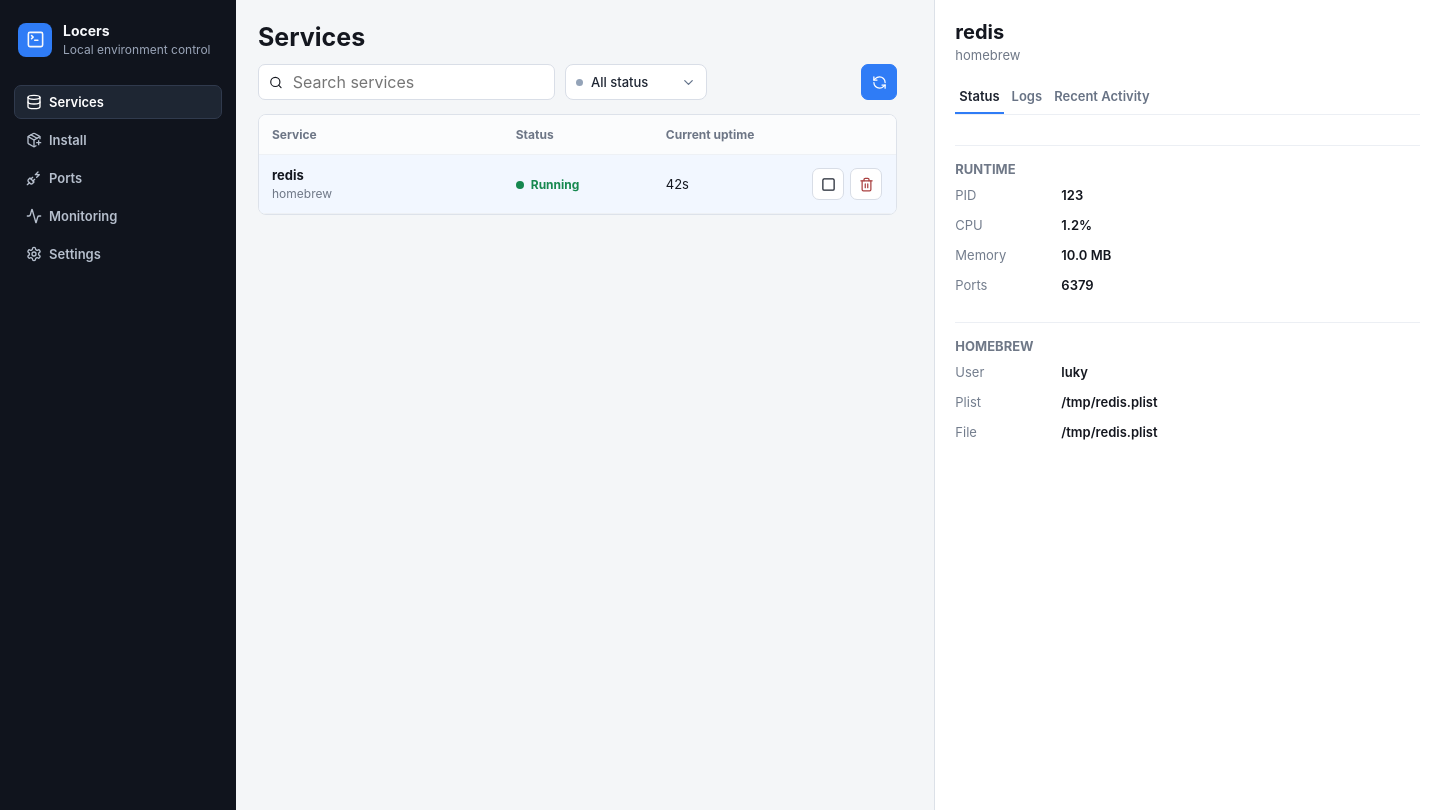
Test: App › shows recent activity in a separate service detail tab
The width and height of the screenshot is (1440, 810).
Expected: the heading "redis" is shown, [955,20,1004,44]
Click the tab "Recent Activity" at (1102, 97), box [1050,80,1154,114]
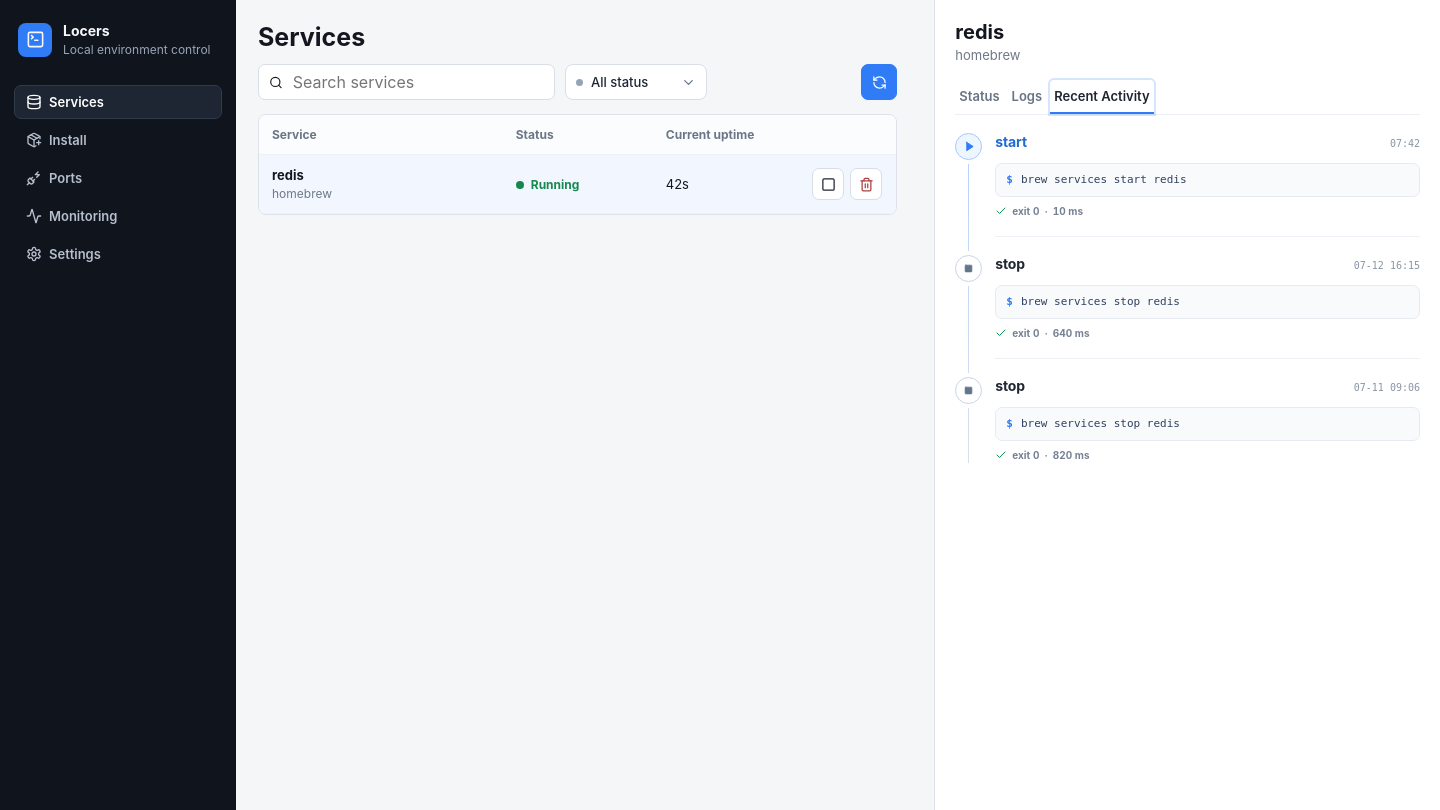
Expected: the text "brew services start redis" is shown, [1021,173,1186,186]
Expected: the list with class "activity-timeline" is shown, [955,132,1420,480]
Expected: the number of list items with class "timeline-event" is 3, [955,132,1420,254]; [955,254,1420,376]; [955,376,1420,480]
